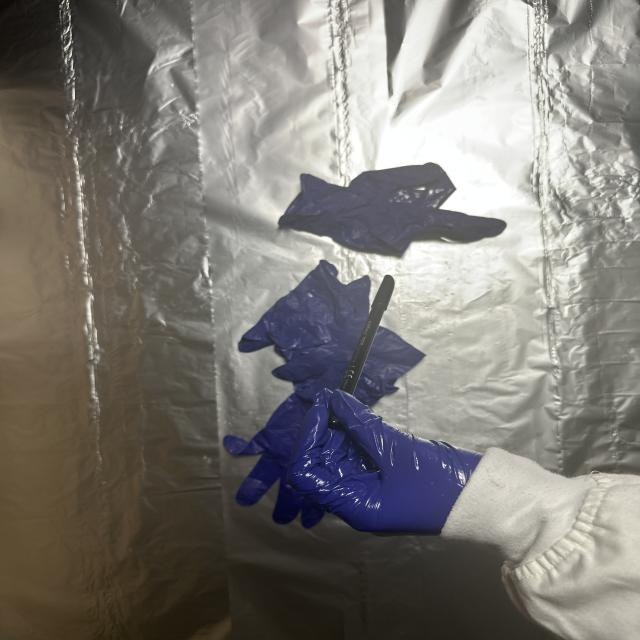gloves_contaminated: (288, 389, 482, 535)
